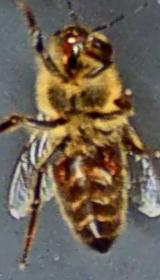varroa_mite: (92, 146, 134, 186), (42, 150, 83, 186)
